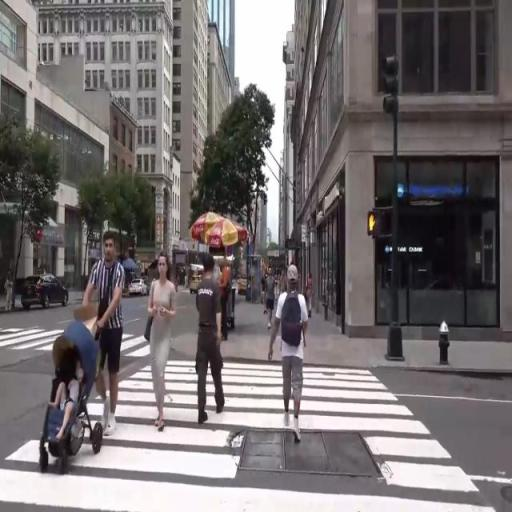person: (88, 228, 132, 431), (274, 265, 319, 437), (197, 253, 230, 428), (146, 249, 174, 445), (57, 361, 87, 432), (261, 256, 278, 340), (4, 267, 19, 330), (306, 270, 320, 321)
